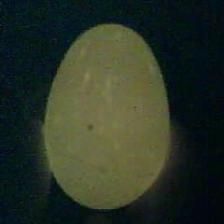infertile: (40, 18, 174, 213)
